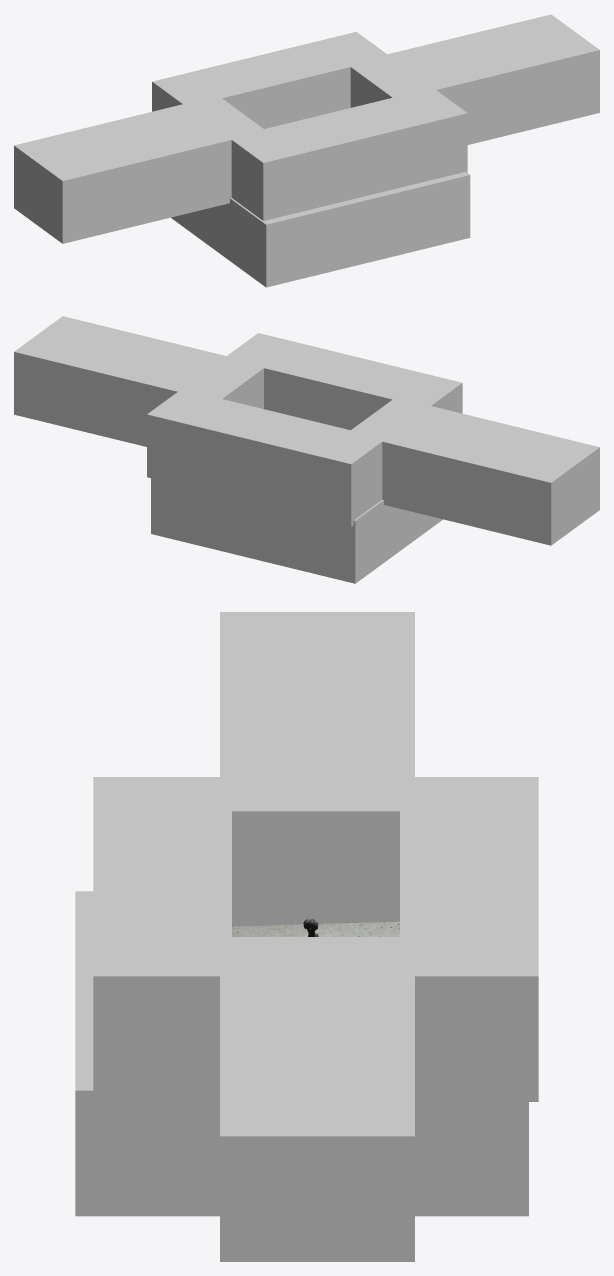
Rendered from 1_LOW_RESIZED.glb.
3 renders of one model, top to bottom at view 1: azimuth 30°, elevation 25°; view 2: azimuth 150°, elevation 25°; view 3: azimuth 270°, elevation 25°, orthographic. The views are drawn at different scales.
Visible parts, largest first — view 1: COL_3, COL_1, COL_4, COL_5, COL_2; view 2: COL_3, COL_2, COL_4, COL_5, COL_1; view 3: COL_4, COL_3, COL_1, COL_2, COL_5, 1_FULL.
Part boxes in pixels (<box>): COL_3: <box>14,96,266,243</box>; COL_1: <box>231,88,467,220</box>; COL_4: <box>347,14,599,144</box>; COL_5: <box>171,172,470,287</box>; COL_2: <box>152,31,389,128</box>; COL_3: <box>347,398,599,545</box>; COL_2: <box>147,389,382,526</box>; COL_4: <box>14,316,265,446</box>; COL_5: <box>151,478,442,583</box>; COL_1: <box>224,333,462,430</box>; COL_4: <box>220,937,414,1261</box>; COL_3: <box>220,612,414,926</box>; COL_1: <box>93,777,231,1101</box>; COL_2: <box>400,777,538,1101</box>; COL_5: <box>75,891,528,1216</box>; 1_FULL: <box>232,919,399,936</box>.
Bounding box in the file's own units: 125 × 26.85 × 46.61.
1 material, 1 textured.
